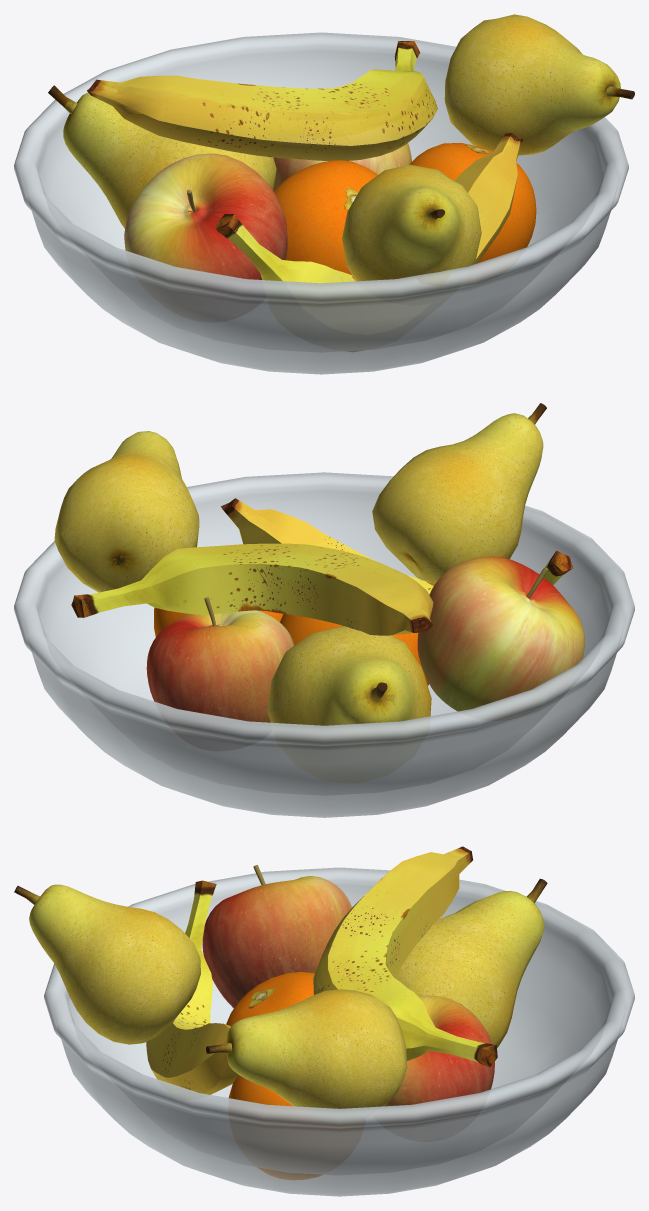
The model's file is sh_scopia_bowlwithfruits.glb.
The picture shows the model from 3 angles, top to bottom: view 1: azimuth 30°, elevation 25°; view 2: azimuth 150°, elevation 25°; view 3: azimuth 270°, elevation 25°; orthographic projection. The views are drawn at different scales.
Size of the model in its own units: 0.32 by 0.141 by 0.336.
12 materials, 9 textured.
